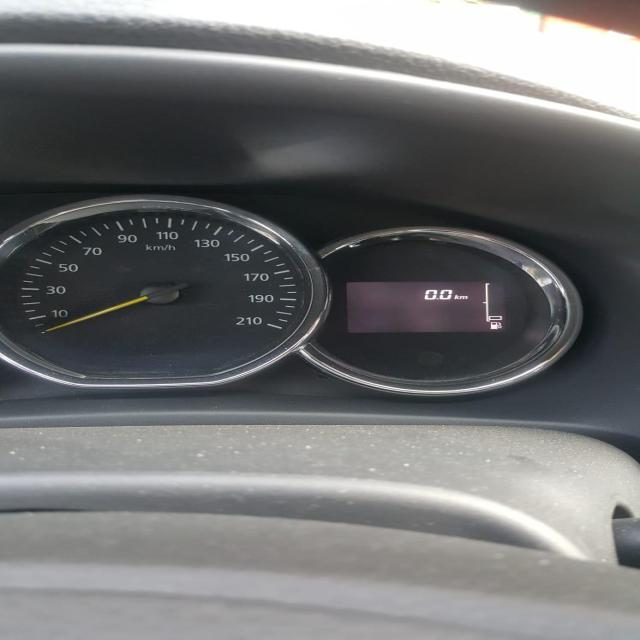odometer: (342, 279, 512, 334)
